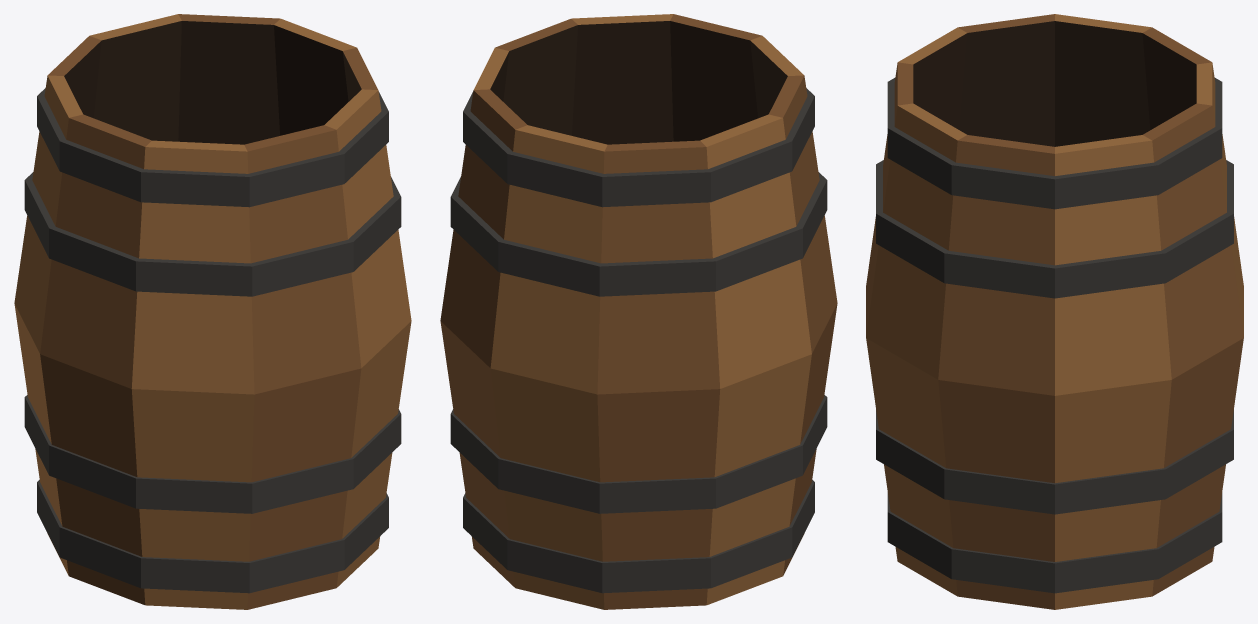
File: prop-cave-barrel-open.glb
3 renders of one model, left to right at view 1: azimuth 30°, elevation 25°; view 2: azimuth 150°, elevation 25°; view 3: azimuth 270°, elevation 25°, orthographic.
Visible parts, largest first — view 1: CaveBarrelOpen; view 2: CaveBarrelOpen; view 3: CaveBarrelOpen.
Part boxes in pixels (<box>): CaveBarrelOpen: <box>14,14,411,609</box>; CaveBarrelOpen: <box>440,14,837,609</box>; CaveBarrelOpen: <box>866,14,1243,609</box>.
Size of the model in its own units: 0.6 by 0.76 by 0.5706.
